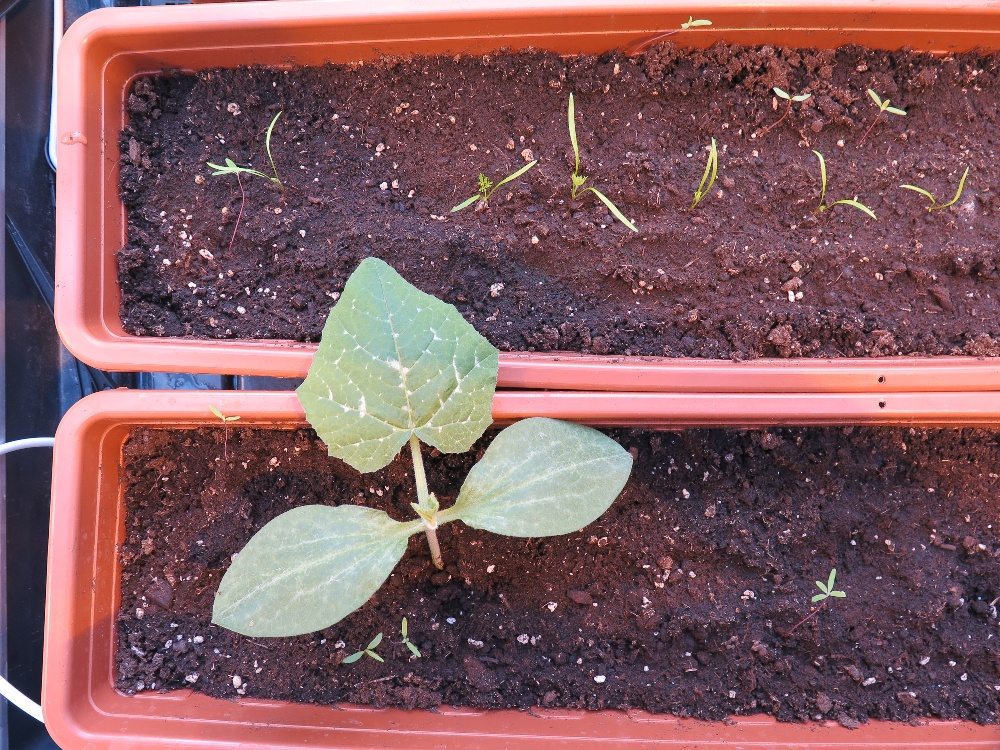crop: (201, 253, 636, 638), (566, 90, 639, 234), (203, 108, 286, 193), (448, 157, 539, 214), (810, 148, 878, 221), (896, 164, 969, 214), (688, 134, 718, 211)
weed: (340, 630, 385, 665), (809, 566, 847, 605), (865, 87, 908, 117), (400, 615, 422, 659), (771, 84, 812, 103), (207, 401, 241, 423), (677, 13, 712, 31)
